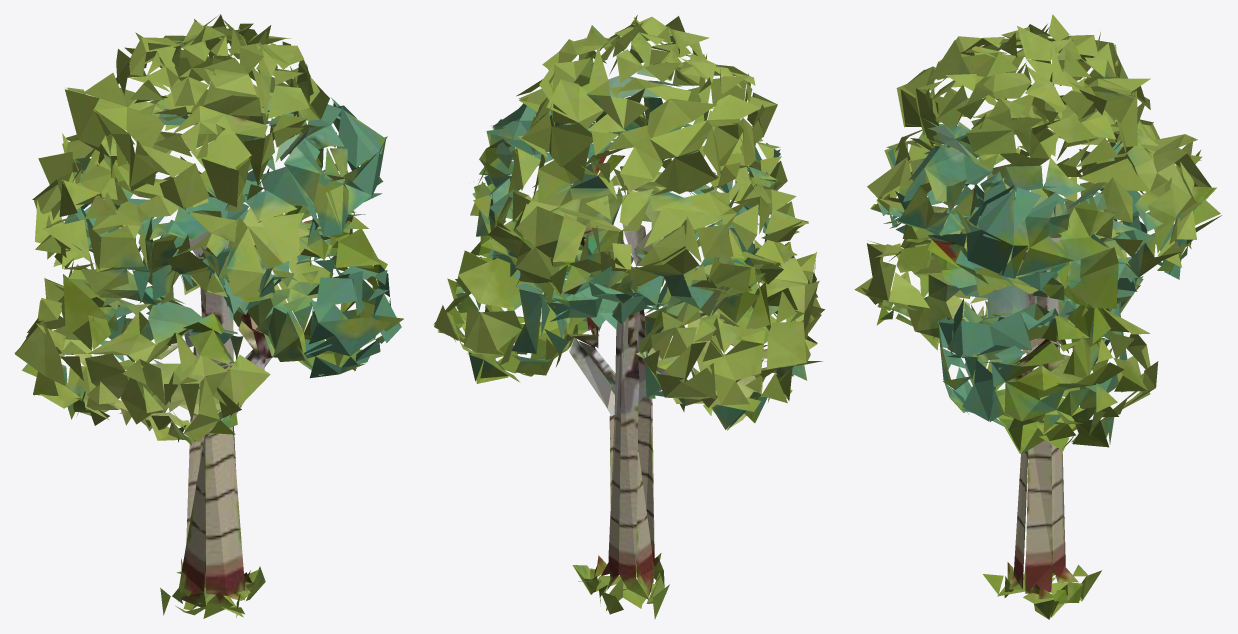
The model's file is tree_birch.glb.
3 renders of one model, left to right at view 1: azimuth 30°, elevation 25°; view 2: azimuth 150°, elevation 25°; view 3: azimuth 270°, elevation 25°, orthographic. The views are drawn at different scales.
Parts seen in each view (by area): view 1: obj.obj; view 2: obj.obj; view 3: obj.obj.
Part boxes in pixels (x1,y1,x2,y2): obj.obj: (14, 14, 403, 618); obj.obj: (433, 15, 824, 618); obj.obj: (854, 14, 1221, 619).
Bounding box in the file's own units: 4.81 × 7.5 × 4.34.
Materials: 1 (1 with a texture image).
